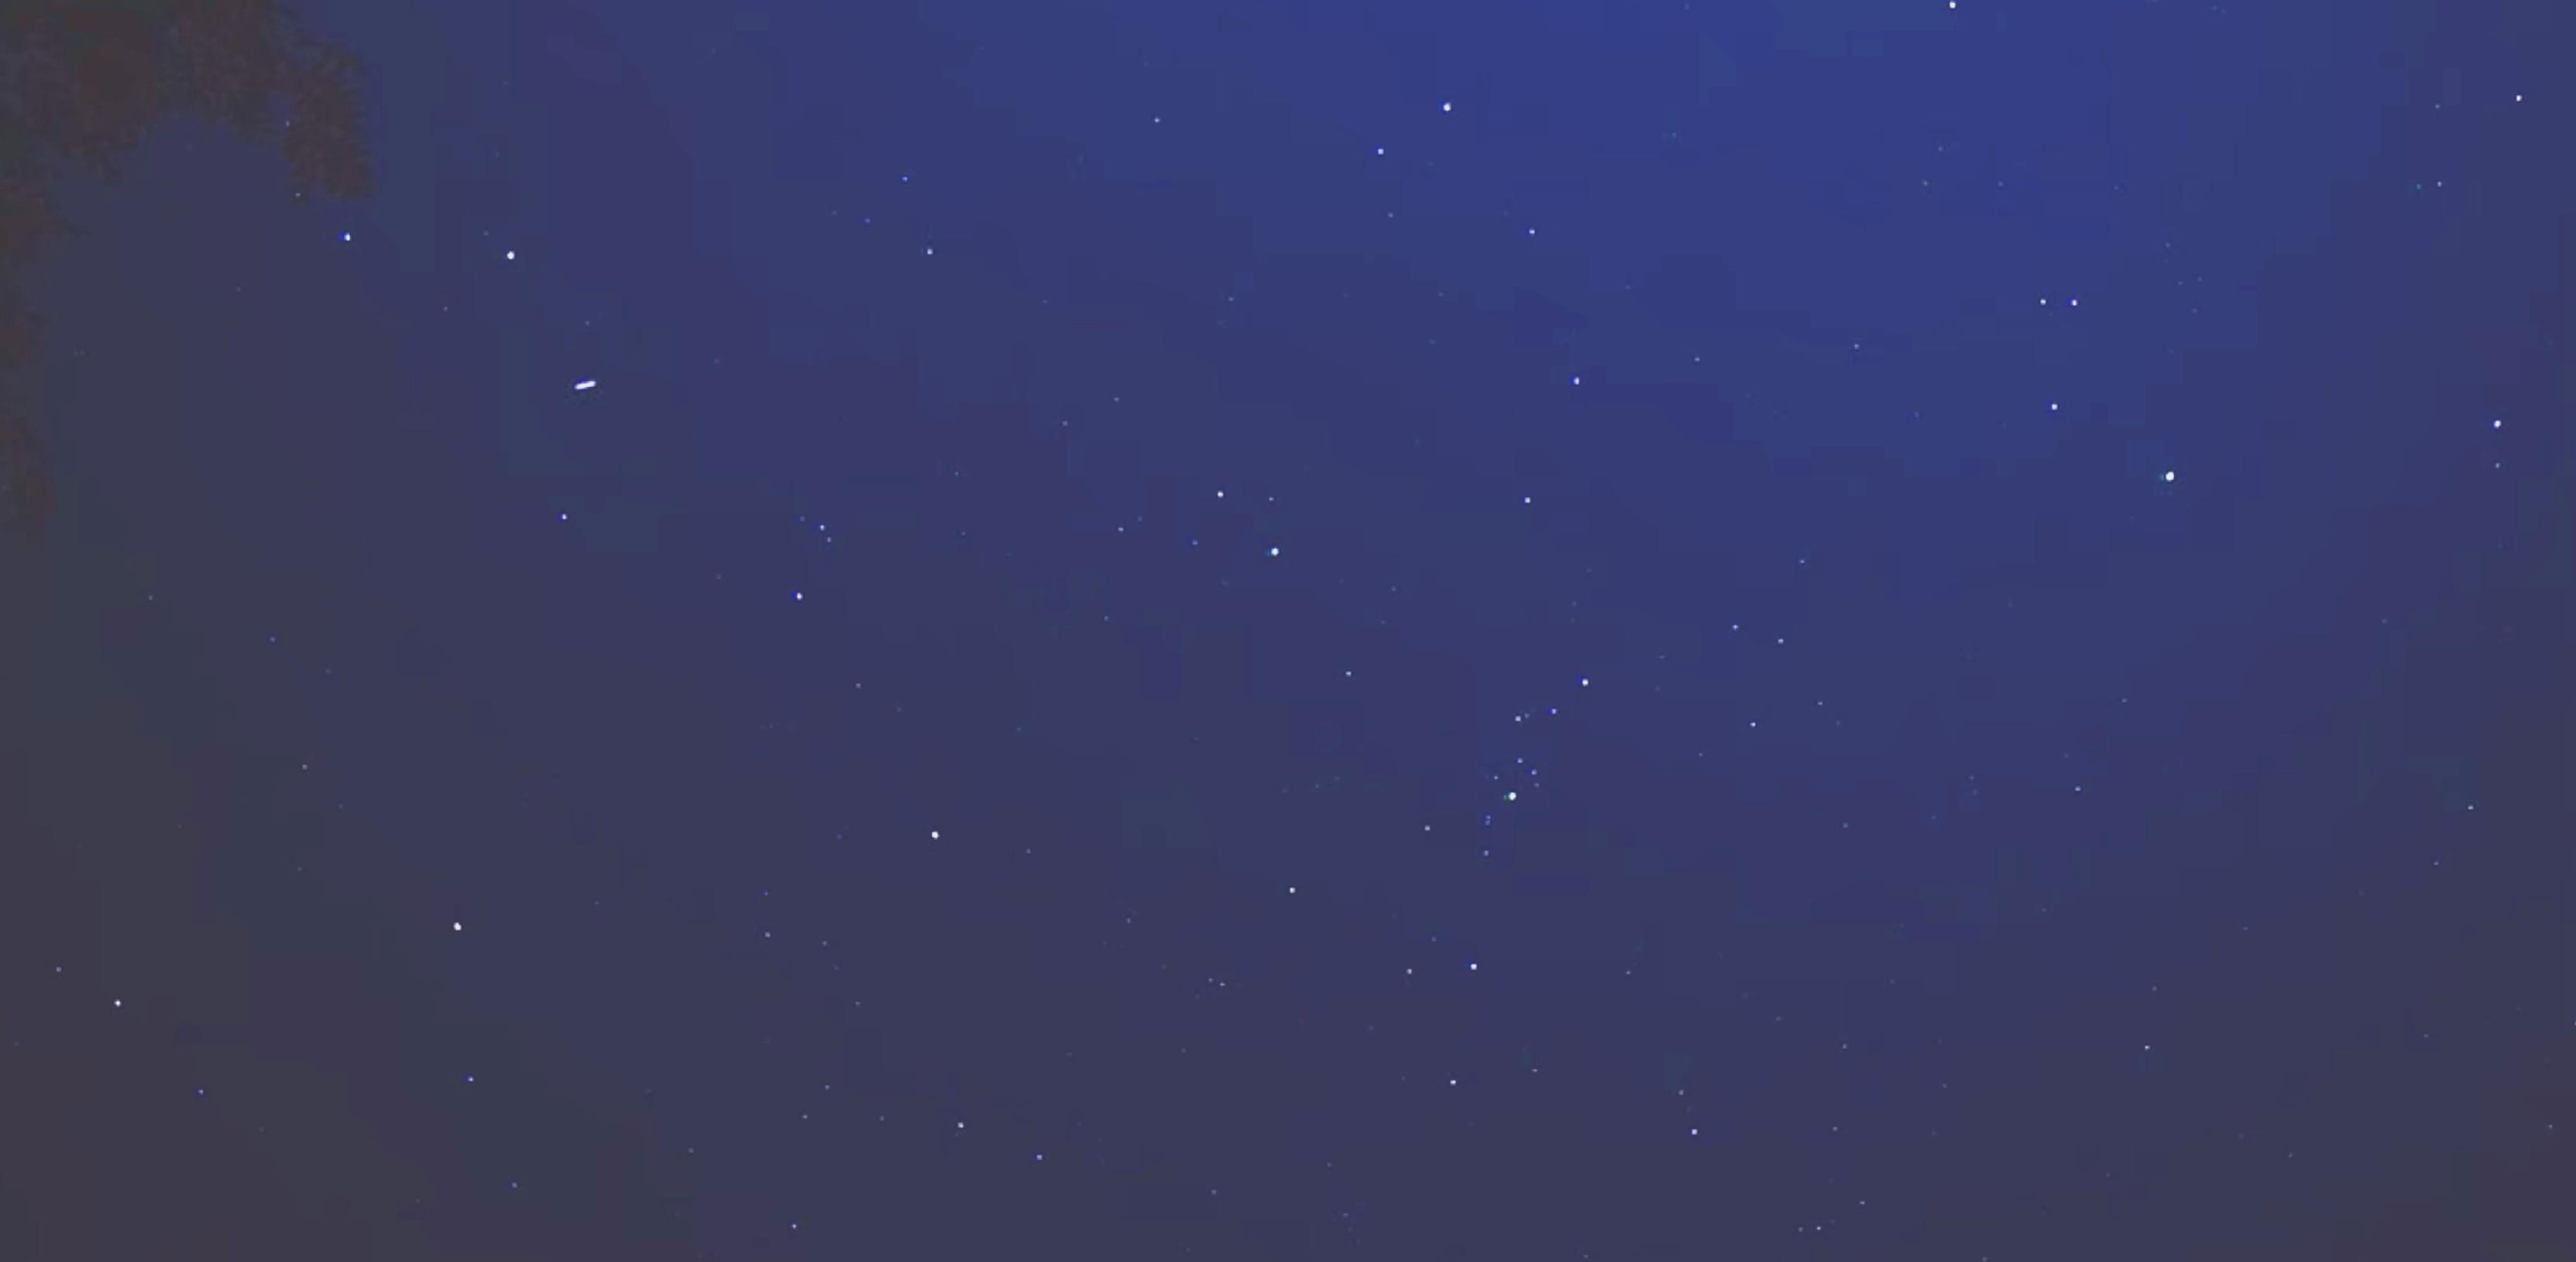meteorite: (552, 365, 623, 401)
